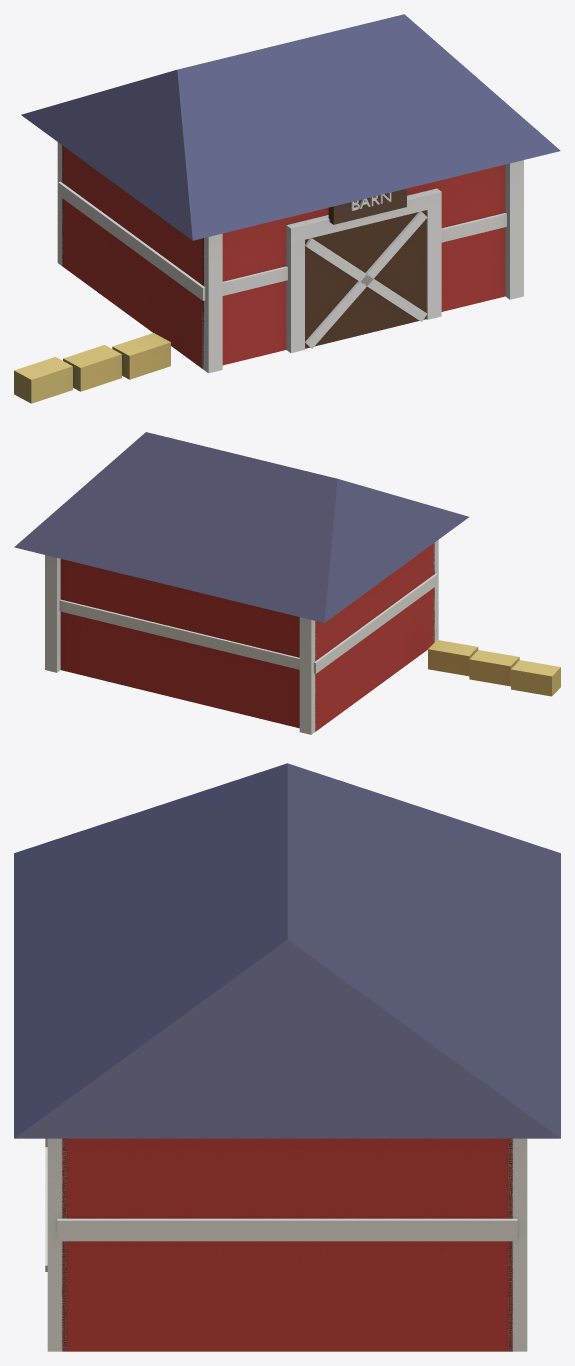
File: home_barn_1.fbx
3 views of the same model, one above another, from view 1: azimuth 30°, elevation 25°; view 2: azimuth 150°, elevation 25°; view 3: azimuth 270°, elevation 25° (orthographic). The views are drawn at different scales.
Parts seen in each view (by area): view 1: home_barn_1_body; view 2: home_barn_1_body; view 3: home_barn_1_body.
Boxes of the visible parts, box(x1,y1,x2,y2) form: home_barn_1_body: box(14, 14, 560, 403); home_barn_1_body: box(14, 432, 560, 734); home_barn_1_body: box(14, 763, 560, 1351).
Size of the model in its own units: 2888 by 1311 by 1700.
1 material, 1 textured.
